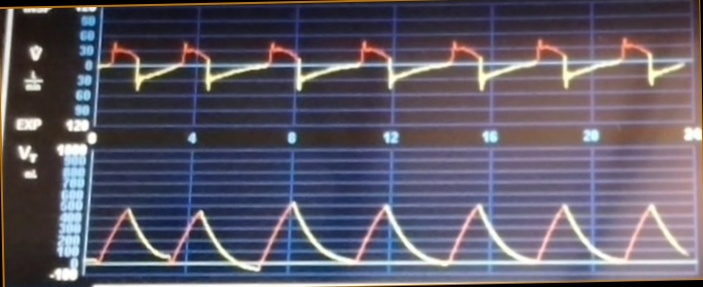Normal Flow: (102, 15, 685, 114)
Normal Volume: (93, 175, 688, 275)
